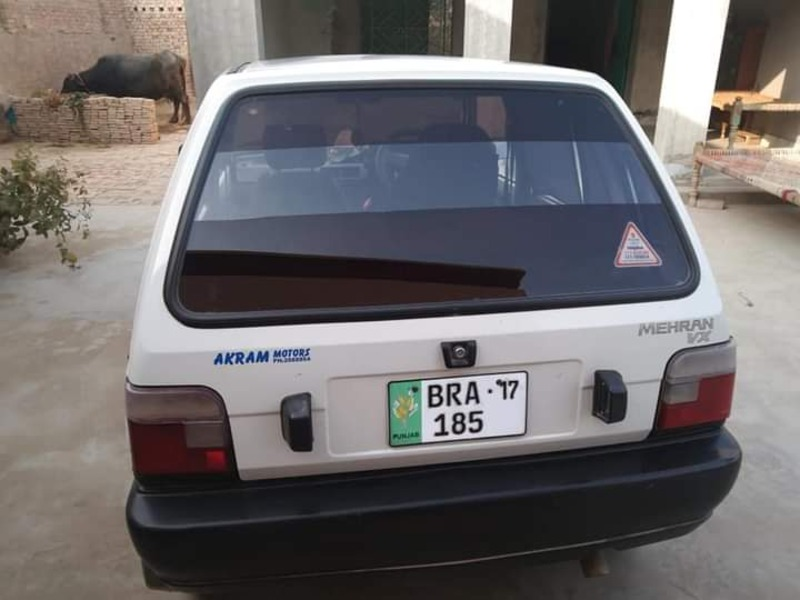License Plate: (377, 369, 532, 448)
